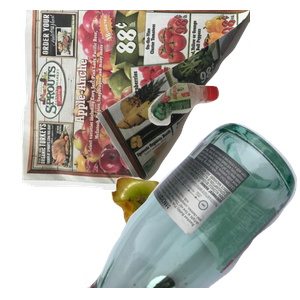glass: (86, 120, 300, 300)
paper: (18, 10, 258, 190)
plastic: (146, 80, 300, 198)
trash: (109, 175, 279, 300)
